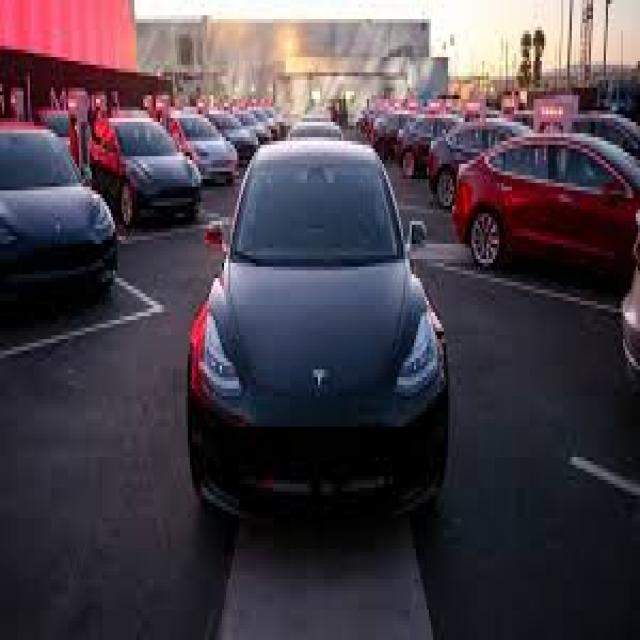car: (190, 141, 444, 549), (461, 126, 638, 293), (2, 103, 111, 320), (92, 61, 198, 229)
